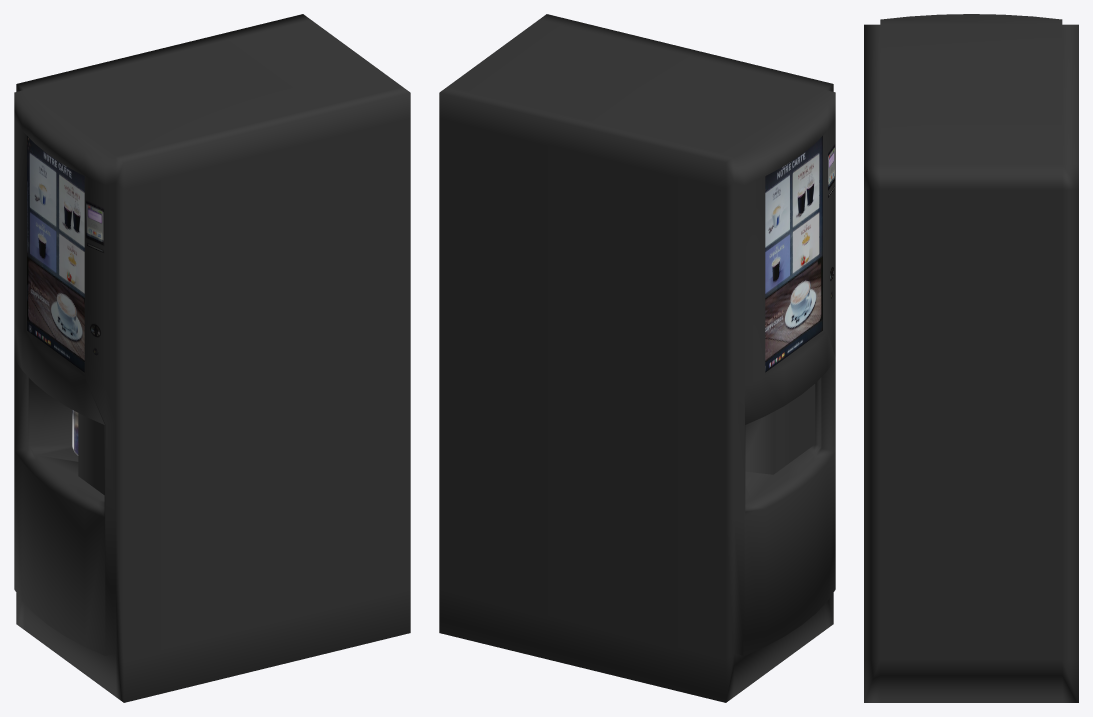
File: MachineChocolat.fbx
3 renders of one model, left to right at view 1: azimuth 30°, elevation 25°; view 2: azimuth 150°, elevation 25°; view 3: azimuth 270°, elevation 25°, orthographic.
Parts seen in each view (by area): view 1: MachineChocolat; view 2: MachineChocolat; view 3: MachineChocolat.
Boxes of the visible parts, bbox=[...] form: MachineChocolat: bbox=[14, 14, 410, 702]; MachineChocolat: bbox=[439, 14, 835, 702]; MachineChocolat: bbox=[864, 14, 1078, 702].
Bounding box in the file's own units: 115 × 192 × 69.27.
